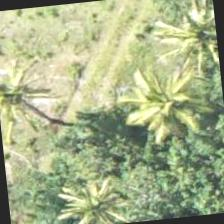Kelapa_Sawit: (120, 62, 219, 162), (151, 0, 223, 93), (41, 159, 138, 223), (0, 44, 55, 140)
